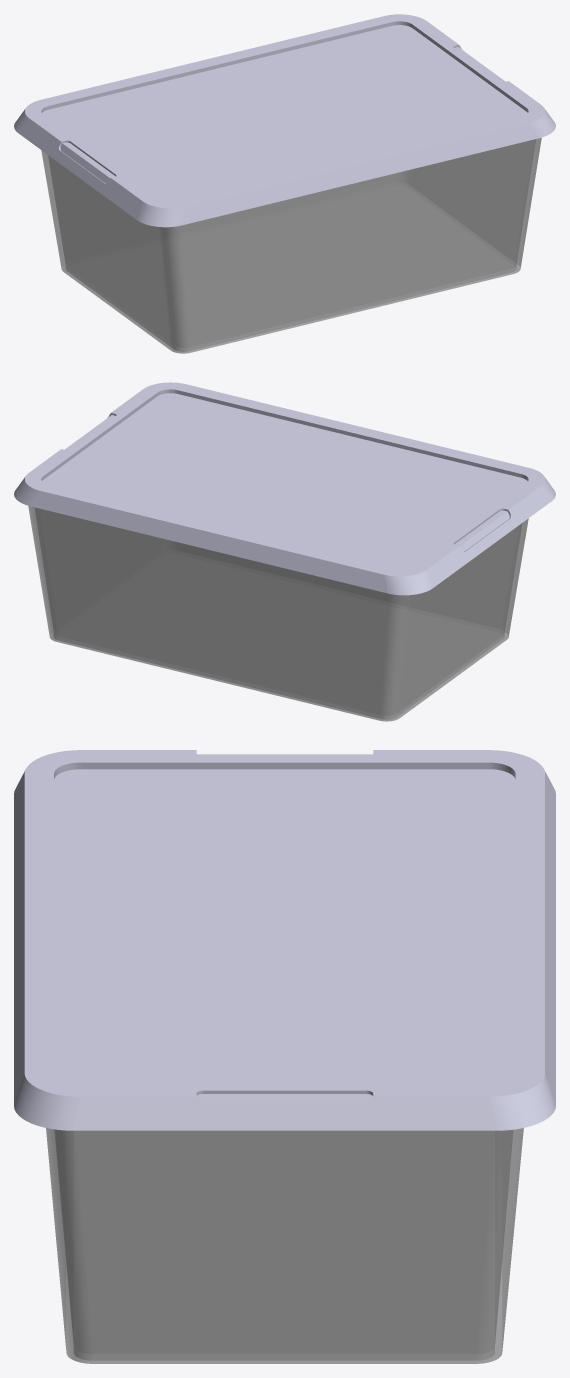
Rendered from box_plastic_storage.fbx.
The picture shows the model from 3 angles, top to bottom: view 1: azimuth 30°, elevation 25°; view 2: azimuth 150°, elevation 25°; view 3: azimuth 270°, elevation 25°; orthographic projection. The views are drawn at different scales.
Parts seen in each view (by area): view 1: box_plastic_storage_cap, box_plastic_storage, box_plastic_storage_interior; view 2: box_plastic_storage_cap, box_plastic_storage, box_plastic_storage_interior; view 3: box_plastic_storage_cap, box_plastic_storage, box_plastic_storage_interior.
Part boxes in pixels (x1,y1,x2,y2): box_plastic_storage_cap: (14,14,555,227); box_plastic_storage: (41,137,541,353); box_plastic_storage_interior: (48,139,535,351); box_plastic_storage_cap: (14,382,555,595); box_plastic_storage: (28,506,528,721); box_plastic_storage_interior: (34,507,522,719); box_plastic_storage_cap: (14,750,555,1130); box_plastic_storage: (46,1128,523,1363); box_plastic_storage_interior: (54,1129,512,1360).
Bounding box in the file's own units: 2.32 × 0.8503 × 1.47.
